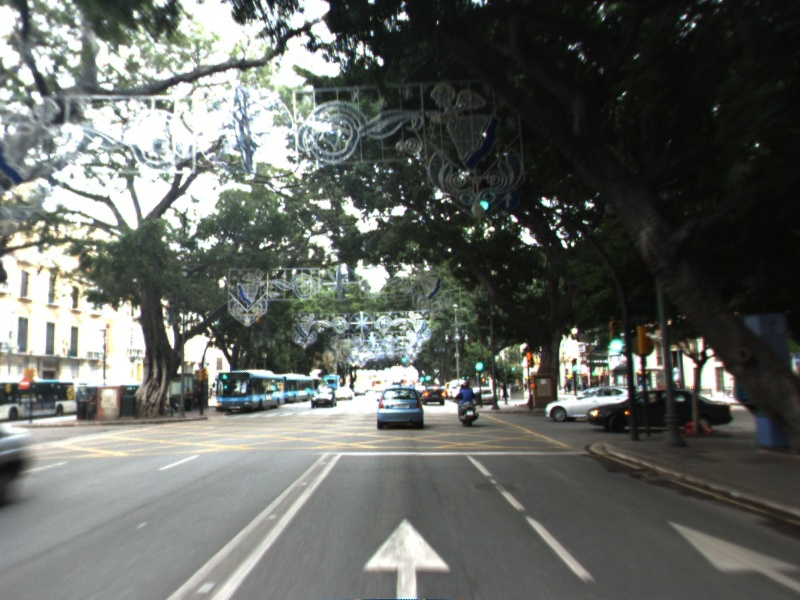STRAIGHT: (664, 518, 800, 594), (358, 514, 455, 600)
